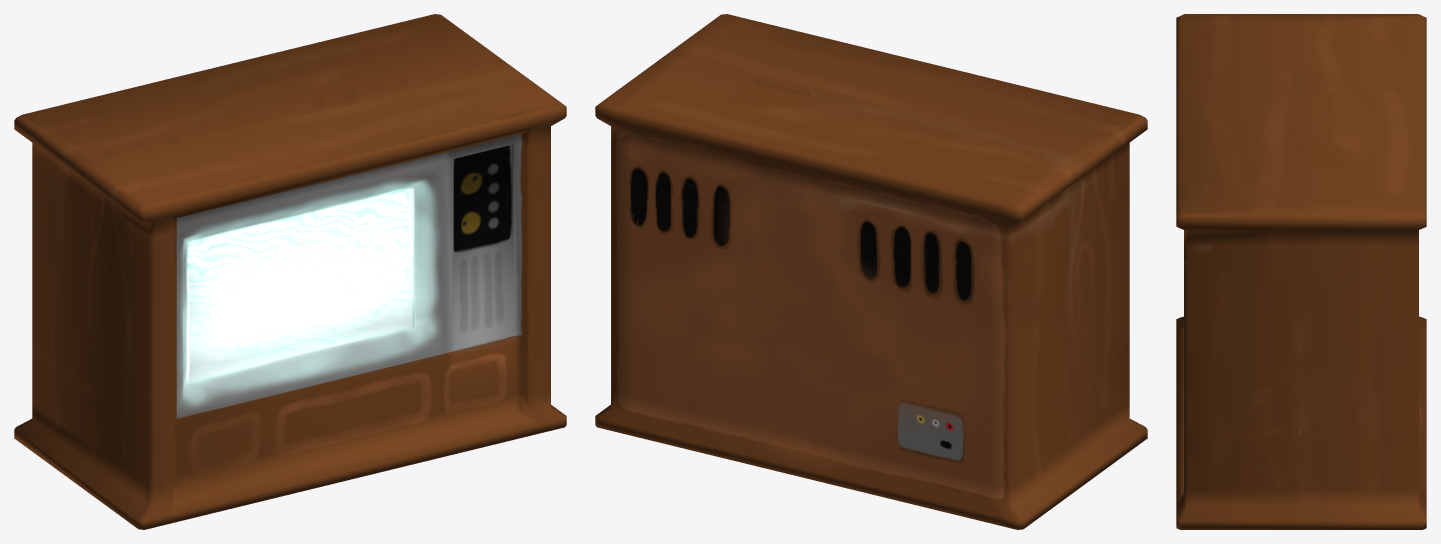
File: proyecto_final_televisor_entrega.glb
The picture shows the model from 3 angles, left to right: view 1: azimuth 30°, elevation 25°; view 2: azimuth 150°, elevation 25°; view 3: azimuth 270°, elevation 25°; orthographic projection. The views are drawn at different scales.
Parts seen in each view (by area): view 1: Object_2; view 2: Object_2; view 3: Object_2.
Part boxes in pixels (left/top/right/bottom): Object_2: left=14, top=14, right=566, bottom=529; Object_2: left=595, top=14, right=1147, bottom=529; Object_2: left=1176, top=14, right=1426, bottom=529.
Bounding box in the file's own units: 7.78 × 5.59 × 4.04.
Materials: 1 (1 with a texture image).
